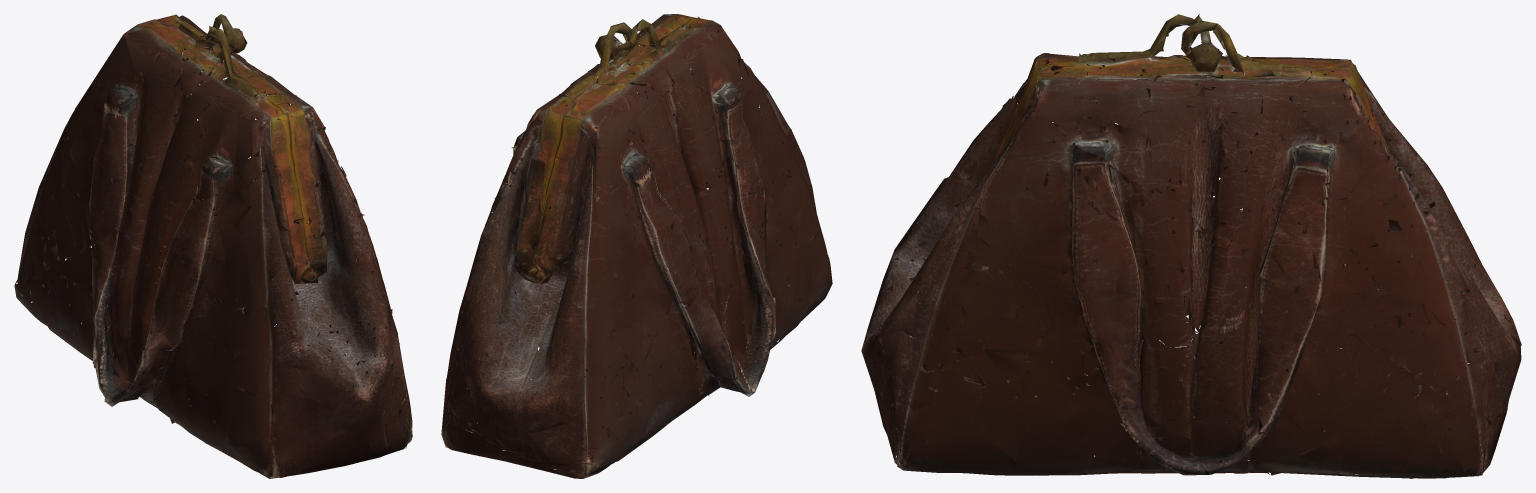
The model's file is handbag.glb.
The picture shows the model from 3 angles, left to right: view 1: azimuth 30°, elevation 25°; view 2: azimuth 150°, elevation 25°; view 3: azimuth 270°, elevation 25°; orthographic projection. The views are drawn at different scales.
Visible parts, largest first — view 1: handbag; view 2: handbag; view 3: handbag.
Boxes of the visible parts, x1,y1,x2,y2 form: handbag: [14, 14, 412, 478]; handbag: [441, 14, 832, 478]; handbag: [861, 14, 1521, 478].
Bounding box in the file's own units: 0.1828 × 0.2679 × 0.374.
1 material, 1 textured.
